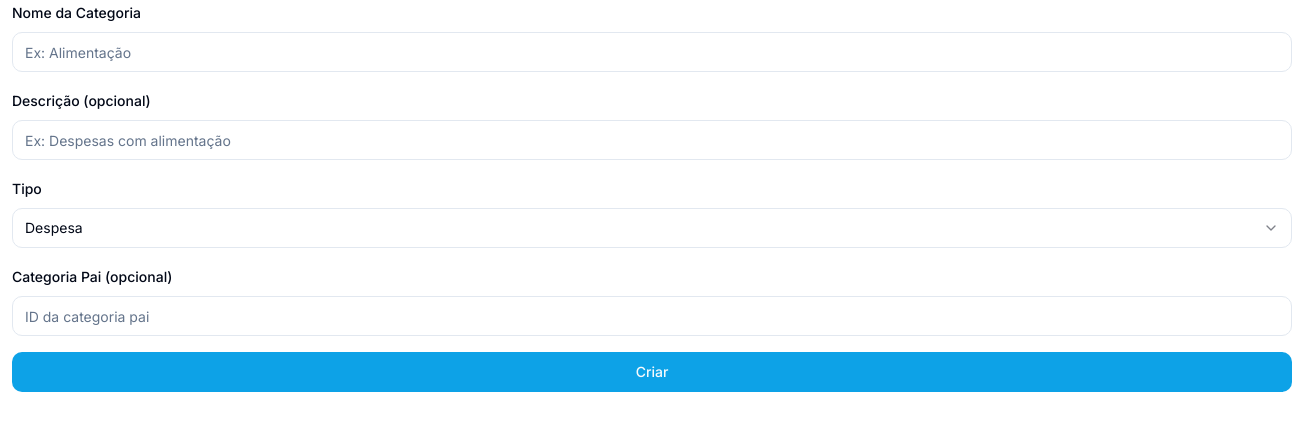
CategoryForm › deve exibir erro quando nome está vazio
Clear the name field and submit
Clear the field labelled "Nome da Categoria". click: (652, 52)
box: [12,32,1292,72]
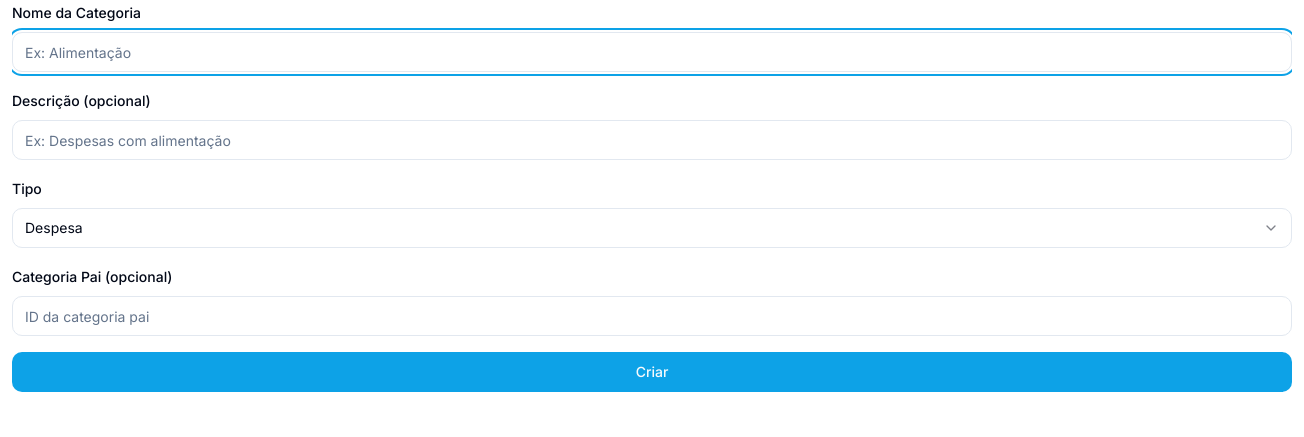
Click the button "Criar". click: click(652, 372)
box: [12,352,1292,392]
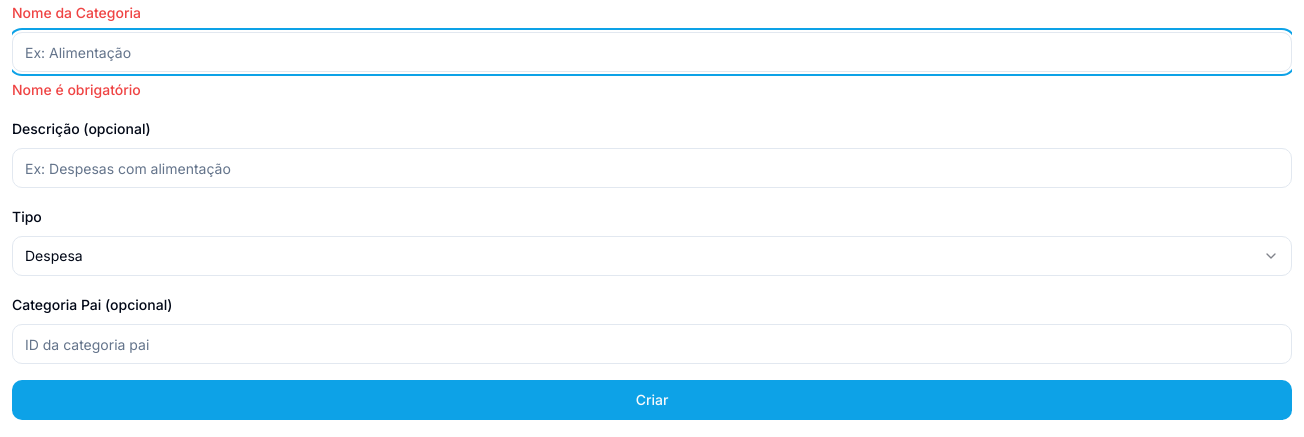
Now the text "Nome é obrigatório" is shown, box [12,81,141,98]
